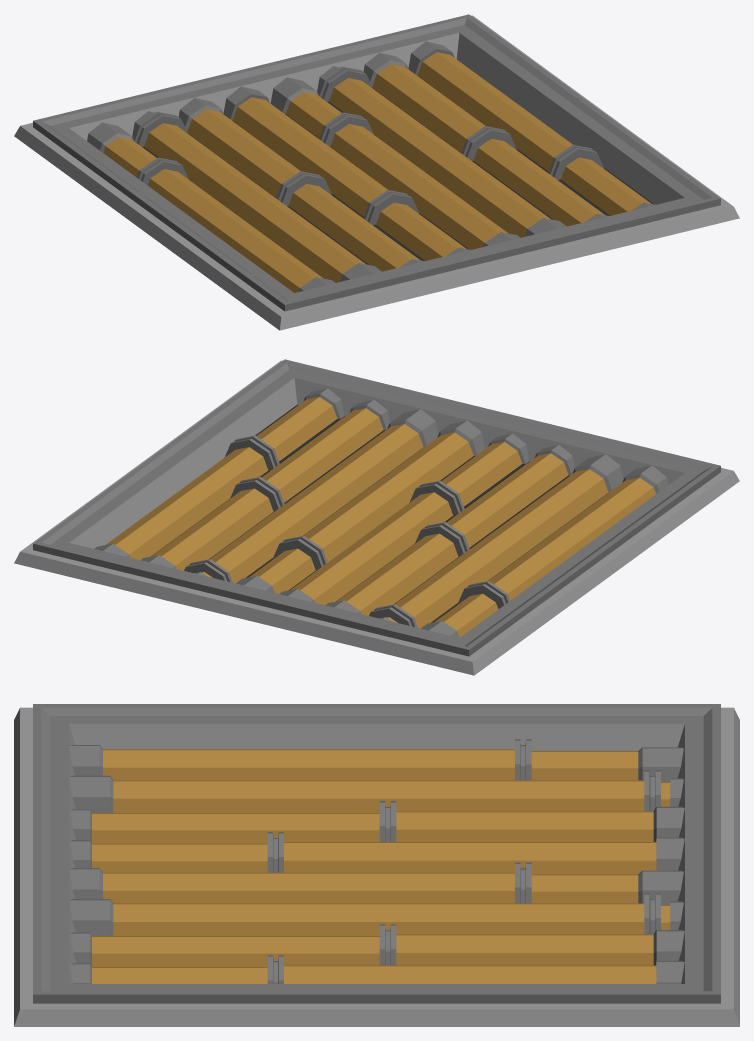
Rendered from RoofTile_Pipes2.glb.
The picture shows the model from 3 angles, top to bottom: view 1: azimuth 30°, elevation 25°; view 2: azimuth 150°, elevation 25°; view 3: azimuth 270°, elevation 25°; orthographic projection. The views are drawn at different scales.
Parts seen in each view (by area): view 1: RoofTile_Pipes2; view 2: RoofTile_Pipes2; view 3: RoofTile_Pipes2.
Part boxes in pixels (x1,y1,x2,y2): RoofTile_Pipes2: (14,14,739,330); RoofTile_Pipes2: (14,359,739,675); RoofTile_Pipes2: (14,704,739,1026).
Size of the model in its own units: 0.68 by 0.039 by 0.68.
